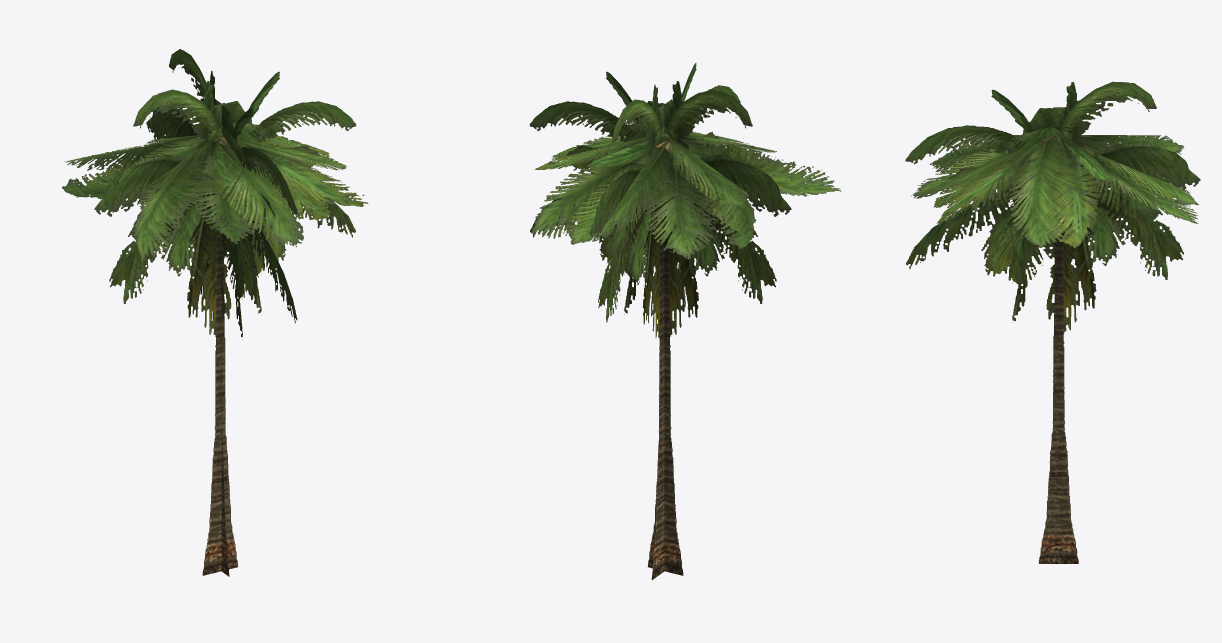
File: tree_005_L.fbx
3 renders of one model, left to right at view 1: azimuth 30°, elevation 25°; view 2: azimuth 150°, elevation 25°; view 3: azimuth 270°, elevation 25°, orthographic. The views are drawn at different scales.
Parts seen in each view (by area): view 1: t005_2; view 2: t005_2; view 3: t005_2.
Part boxes in pixels (x1,y1,x2,y2): t005_2: [62, 49, 368, 576]; t005_2: [529, 63, 841, 579]; t005_2: [905, 81, 1200, 563].
Bounding box in the file's own units: 8.59 × 15.32 × 8.76.
1 material, 1 textured.
